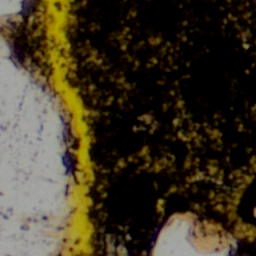cement_matrix: (68, 0, 255, 255), (10, 0, 48, 72), (66, 139, 76, 170)
cracks: (0, 0, 93, 255), (65, 138, 77, 171)
gravel_crushed_stones: (0, 38, 70, 255), (154, 218, 226, 255), (0, 0, 22, 22), (112, 247, 125, 255)
